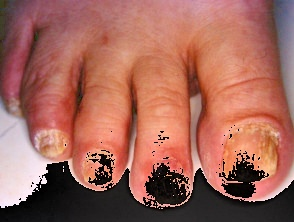Nail_psoriasis: (213, 106, 294, 195), (136, 142, 194, 212), (76, 146, 122, 192), (29, 121, 75, 163), (5, 96, 26, 118)
